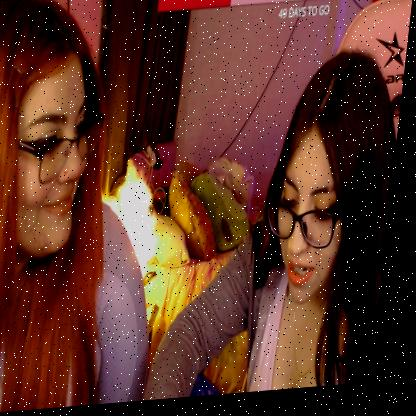streamer: (153, 47, 410, 404), (0, 0, 189, 416)
